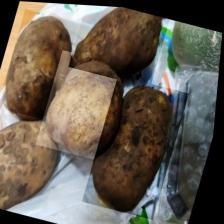Damaged potato: (85, 73, 192, 219), (38, 48, 138, 162), (0, 8, 87, 132), (69, 4, 170, 86), (0, 106, 72, 220)
